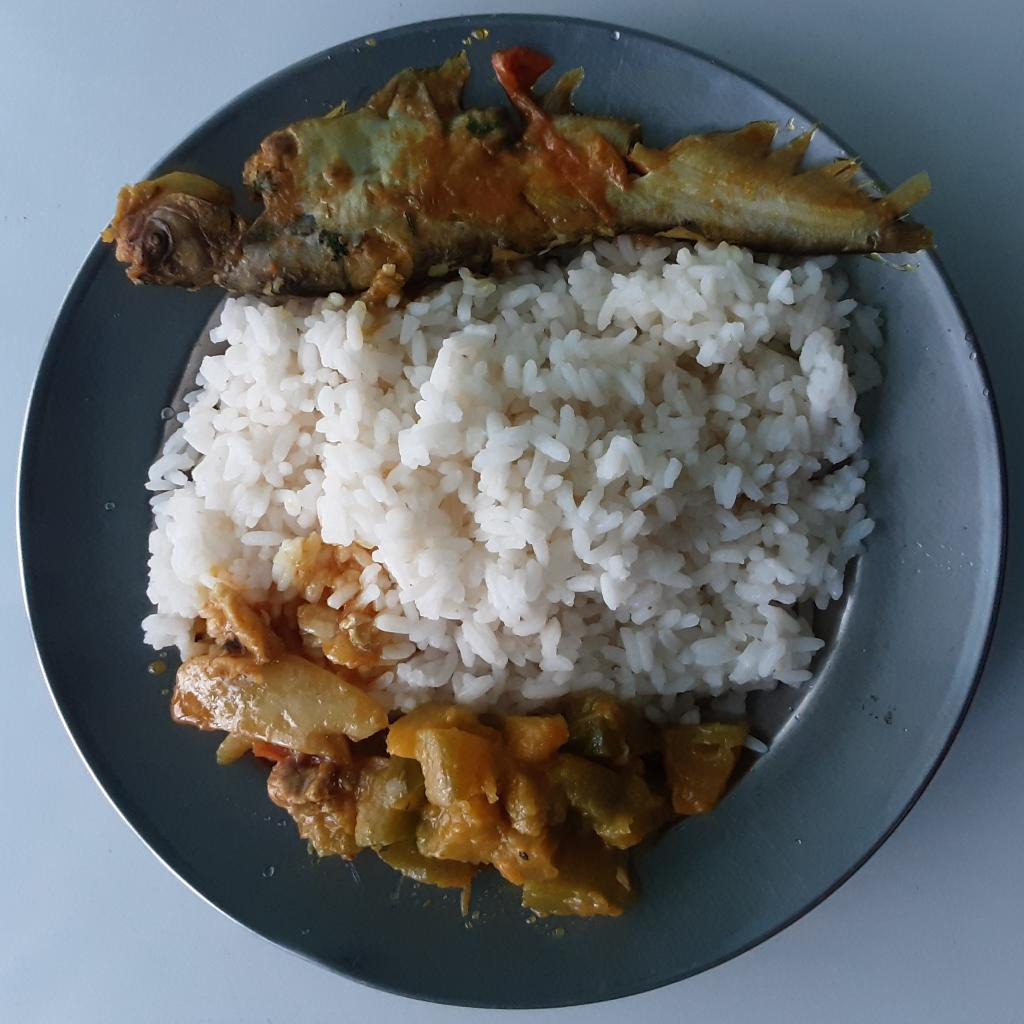fish: (101, 39, 931, 307)
kumra-vaji: (348, 692, 753, 919)
lau: (171, 646, 388, 859)
rice: (142, 238, 894, 726)
